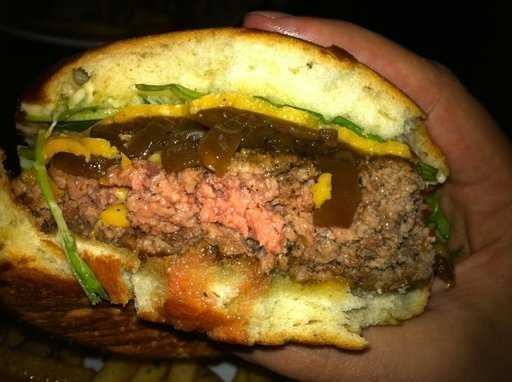hamburger: (1, 36, 456, 330)
